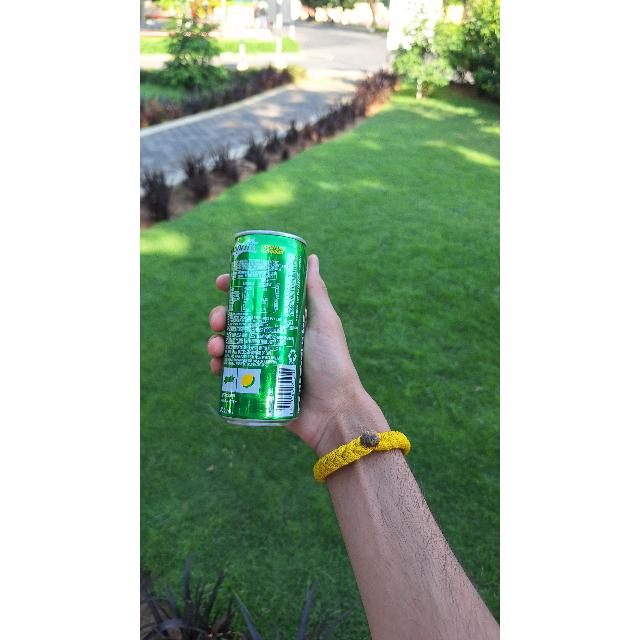Sprite: (222, 231, 304, 424)
